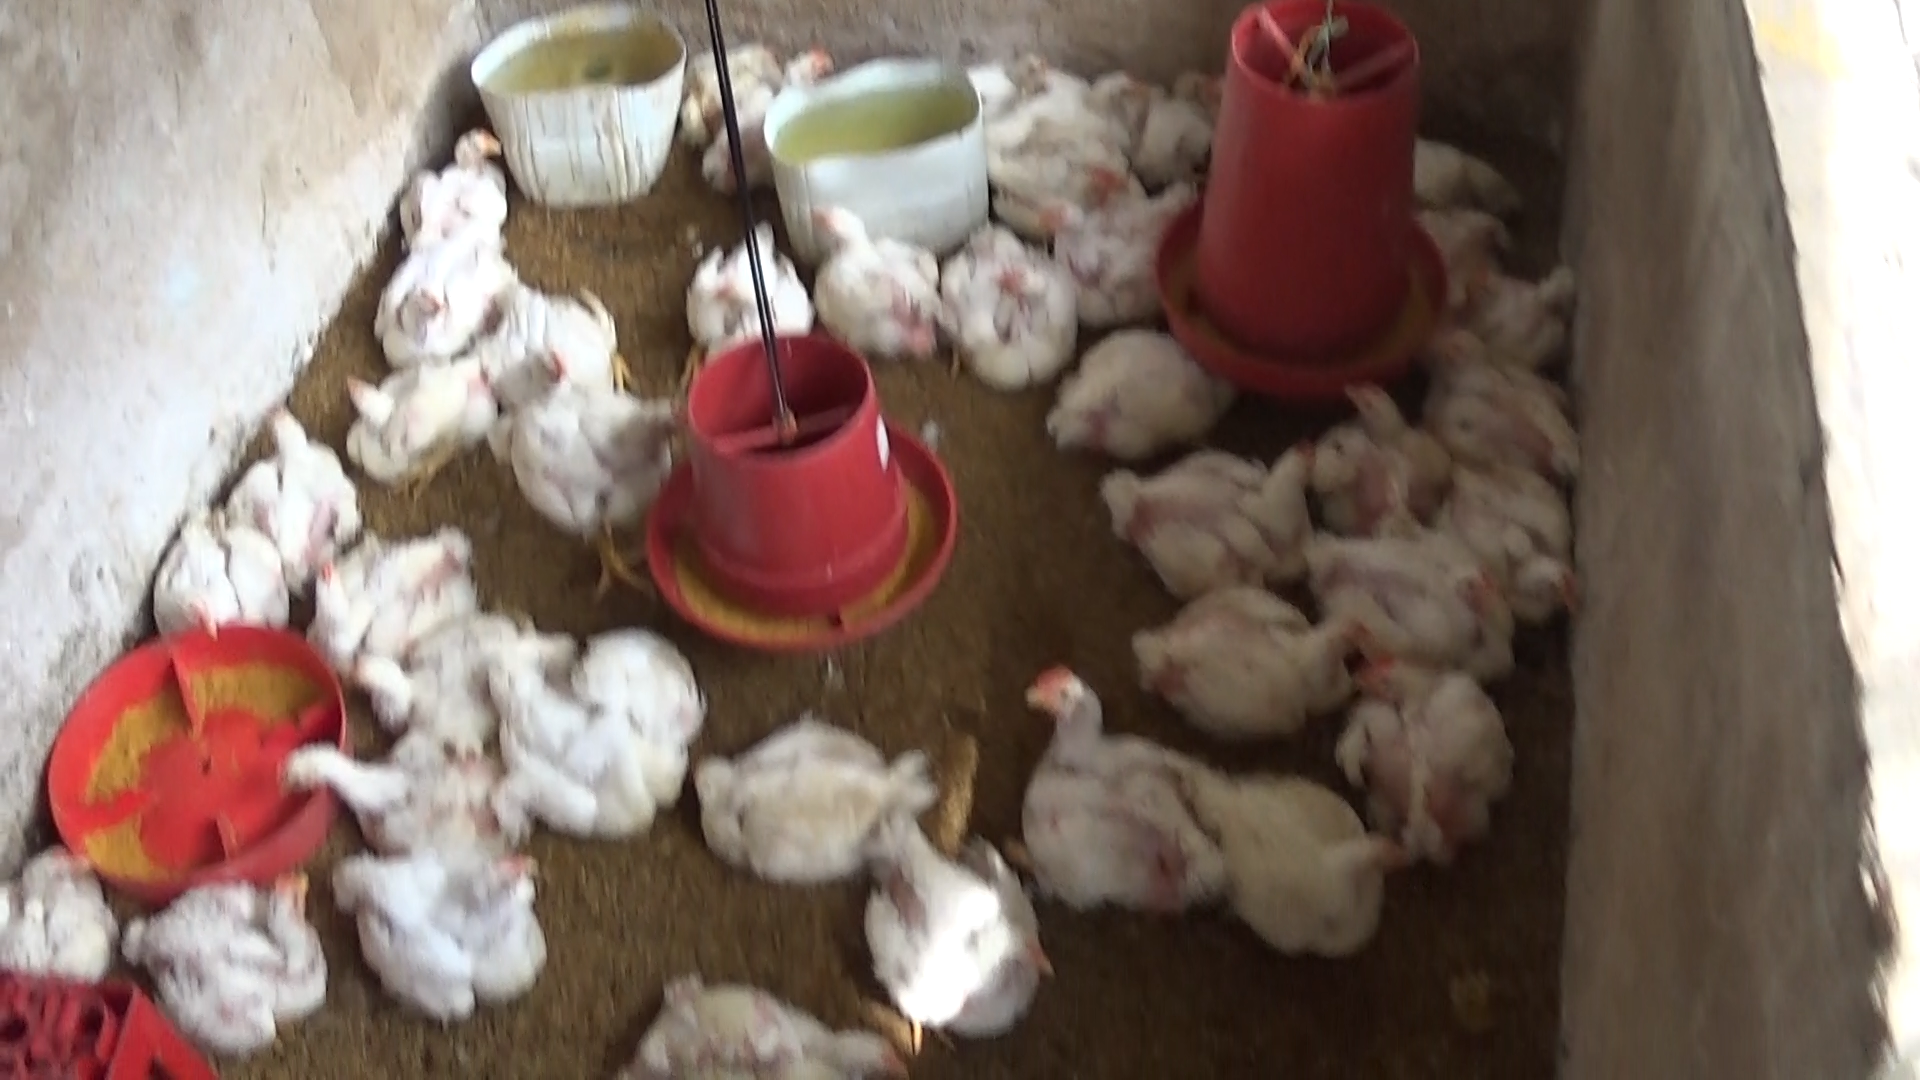Pollos: (1013, 658, 1215, 924), (496, 377, 705, 599), (686, 712, 936, 895), (1187, 766, 1411, 967), (492, 640, 713, 837), (862, 816, 1054, 1043), (125, 866, 340, 1062), (322, 837, 546, 1015), (1127, 599, 1386, 738), (1091, 436, 1323, 588), (265, 712, 498, 855), (1341, 649, 1513, 839), (1302, 526, 1506, 683), (916, 214, 1085, 396), (1025, 324, 1232, 458), (1425, 456, 1590, 622), (345, 612, 551, 744), (1316, 378, 1461, 564), (811, 198, 951, 377), (297, 533, 480, 667), (328, 352, 485, 508), (708, 33, 852, 198), (1436, 327, 1581, 481), (227, 402, 363, 558), (978, 73, 1159, 186), (682, 218, 811, 372), (978, 138, 1134, 262), (491, 276, 641, 400), (154, 504, 299, 632), (375, 229, 505, 361), (1039, 193, 1170, 323), (388, 123, 520, 247), (0, 829, 109, 975), (1440, 258, 1581, 359), (957, 50, 1079, 109)
